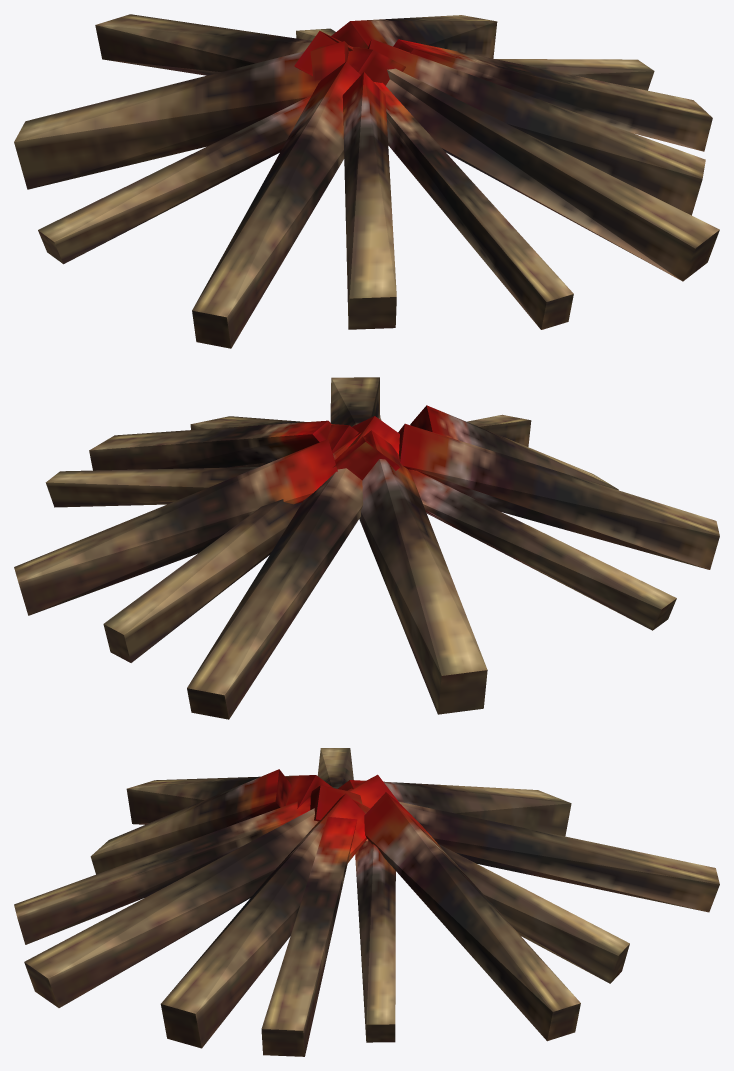
File: general_obj_campfire.fbx
3 views of the same model, one above another, from view 1: azimuth 30°, elevation 25°; view 2: azimuth 150°, elevation 25°; view 3: azimuth 270°, elevation 25° (orthographic). The views are drawn at different scales.
Parts seen in each view (by area): view 1: Object08; view 2: Object08; view 3: Object08.
Boxes of the visible parts, left/top/right/bottom form: Object08: left=14, top=14, right=719, bottom=348; Object08: left=14, top=377, right=719, bottom=719; Object08: left=14, top=748, right=719, bottom=1056.
Bounding box in the file's own units: 1.04 × 0.27 × 1.12.
